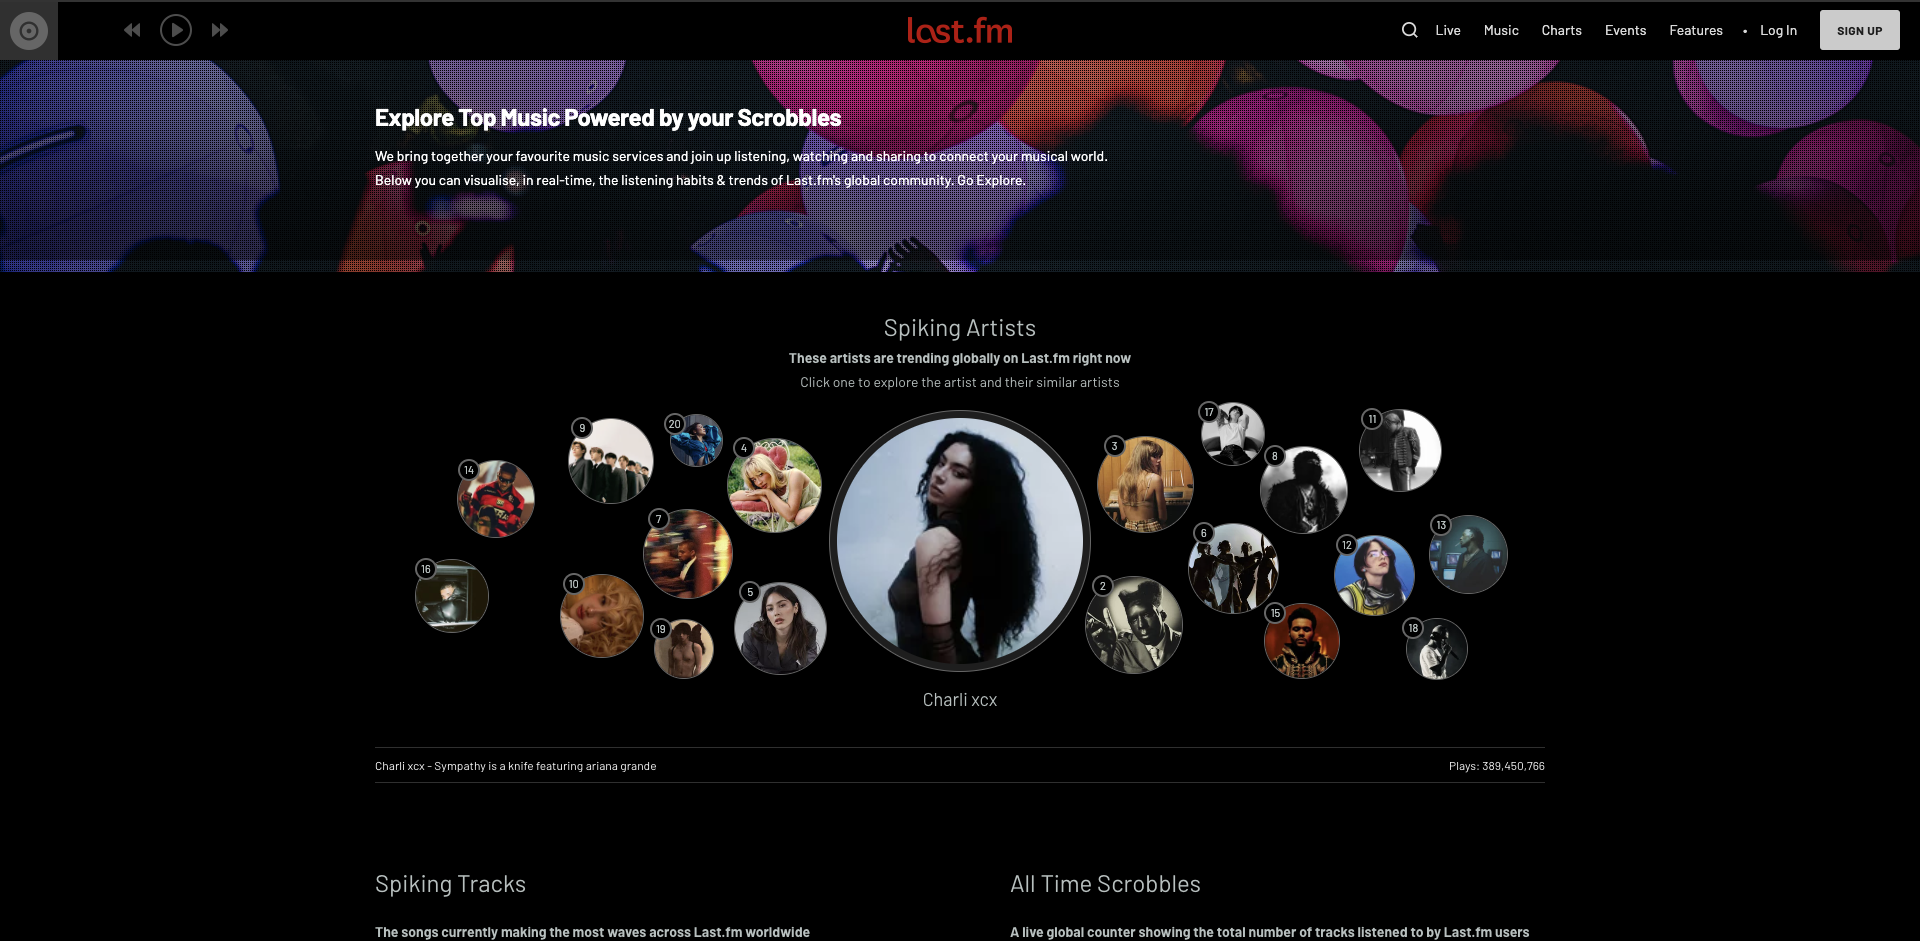button: (1820, 10, 1900, 50), (109, 0, 153, 60), (153, 0, 197, 60), (197, 0, 241, 60)
link: (909, 10, 1011, 50), (0, 2, 58, 60), (435, 758, 656, 772), (1669, 10, 1723, 50), (1605, 10, 1647, 50), (1542, 10, 1582, 50), (922, 689, 997, 709), (1760, 10, 1798, 50), (1484, 10, 1518, 50), (1393, 10, 1425, 50), (1435, 10, 1461, 50), (375, 758, 425, 772)
